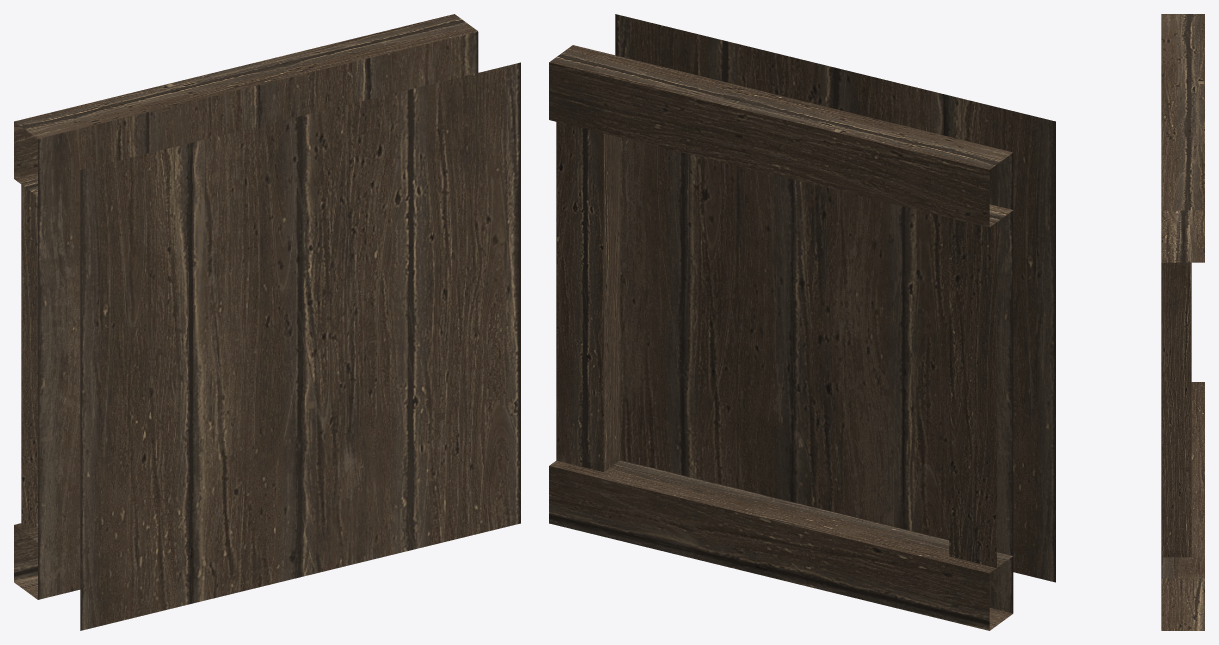
The model's file is ARC1010318.fbx.
3 renders of one model, left to right at view 1: azimuth 30°, elevation 25°; view 2: azimuth 150°, elevation 25°; view 3: azimuth 270°, elevation 25°, orthographic. The views are drawn at different scales.
Parts seen in each view (by area): view 1: smARC1010318; view 2: smARC1010318; view 3: smARC1010318.
Part boxes in pixels (x1,y1,x2,y2): smARC1010318: (14,14,520,630); smARC1010318: (549,14,1055,630); smARC1010318: (1161,14,1204,630).
Size of the model in its own units: 134 by 134 by 34.9.
Materials: 1 (1 with a texture image).
